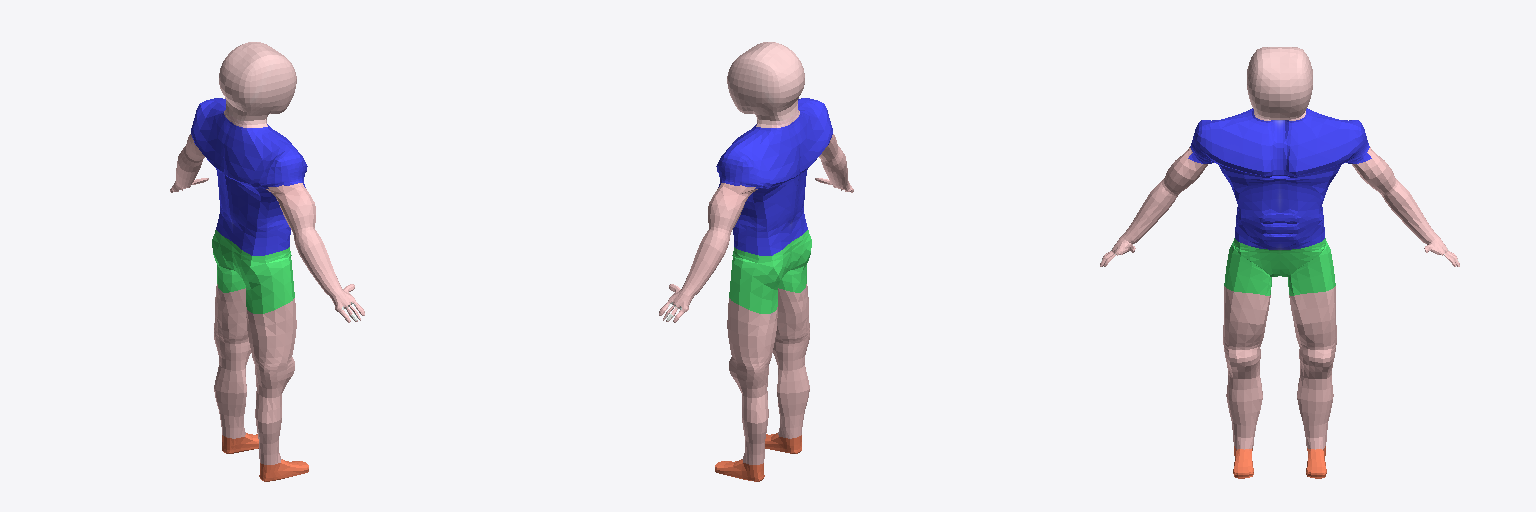
The picture shows the model from 3 angles: view 1: azimuth 30°, elevation 25°; view 2: azimuth 150°, elevation 25°; view 3: azimuth 270°, elevation 25°; orthographic projection.
Parts seen in each view (by area): view 1: Cube_Cube.004; view 2: Cube_Cube.004; view 3: Cube_Cube.004.
Boxes of the visible parts, box(x1,y1,x2,y2) form: Cube_Cube.004: box(170, 42, 364, 481); Cube_Cube.004: box(659, 42, 853, 481); Cube_Cube.004: box(1100, 47, 1459, 478).
Bounding box in the file's own units: 3.77 × 21.57 × 16.88.
1 materials, 1 textured.